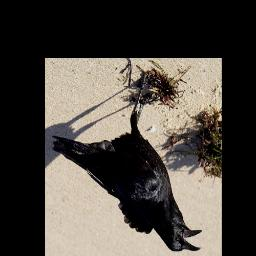Crow: (52, 68, 203, 253)
